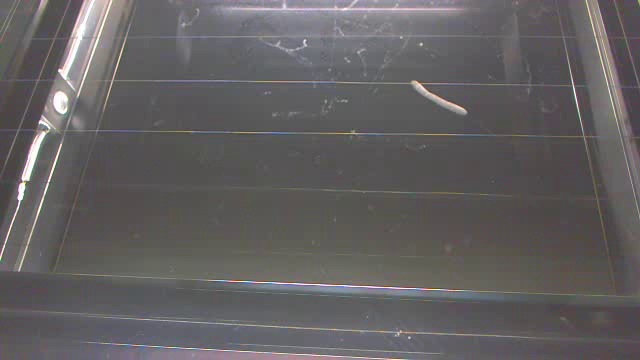alpha: (409, 79, 468, 117)
